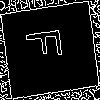F: (25, 24, 72, 61)
